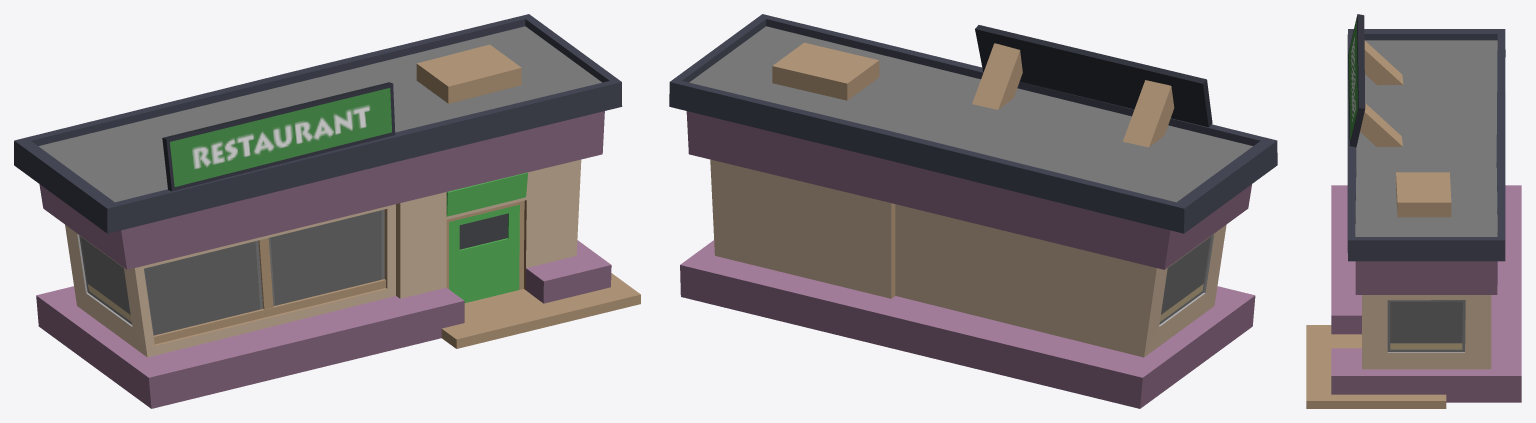
Rendered from restaurant01_color01.fbx.
The picture shows the model from 3 angles, left to right: view 1: azimuth 30°, elevation 25°; view 2: azimuth 150°, elevation 25°; view 3: azimuth 270°, elevation 25°; orthographic projection. The views are drawn at different scales.
Parts seen in each view (by area): view 1: restaurant01_color01; view 2: restaurant01_color01; view 3: restaurant01_color01.
Boxes of the visible parts, bbox=[...] form: restaurant01_color01: bbox=[14, 14, 640, 408]; restaurant01_color01: bbox=[669, 14, 1277, 408]; restaurant01_color01: bbox=[1306, 14, 1521, 408].
Size of the model in its own units: 1598 by 745 by 686.
